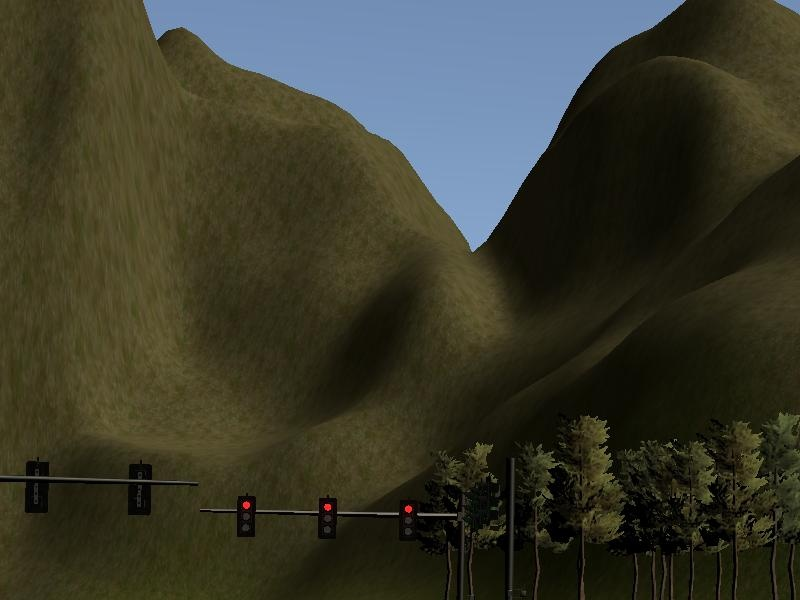red: (230, 488, 263, 541), (312, 493, 343, 544), (393, 496, 421, 543)
